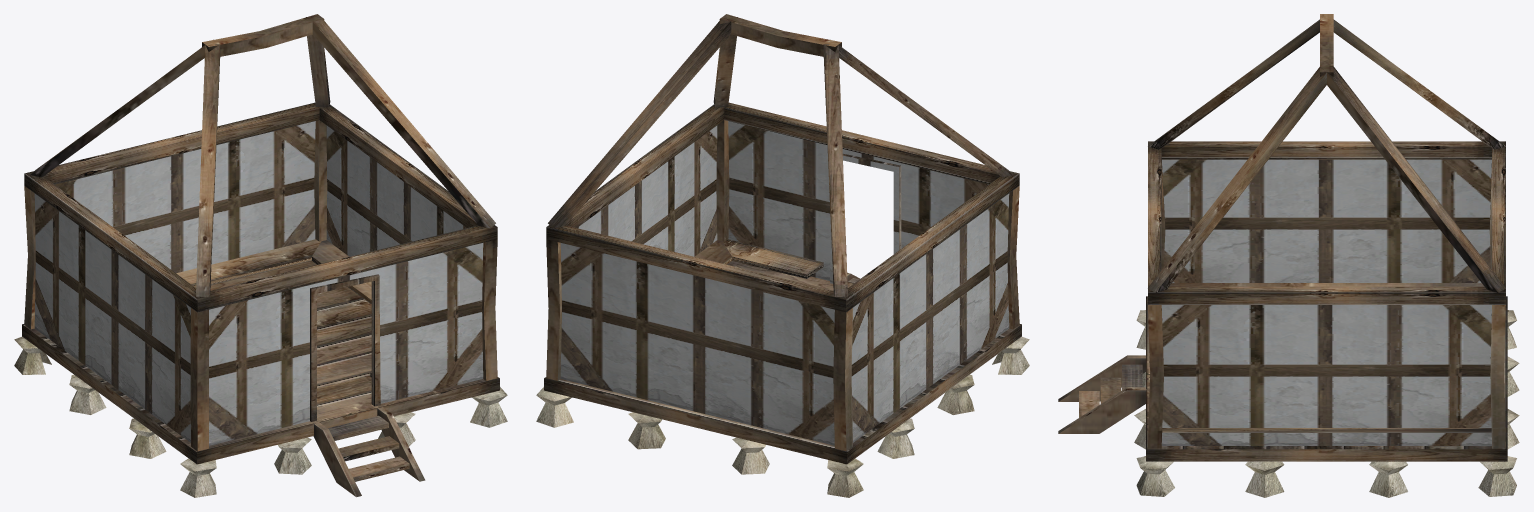
3 renders of one model, left to right at view 1: azimuth 30°, elevation 25°; view 2: azimuth 150°, elevation 25°; view 3: azimuth 270°, elevation 25°, orthographic. The views are drawn at different scales.
Visible parts, largest first — view 1: granary_open.001; view 2: granary_open.001; view 3: granary_open.001.
Part boxes in pixels (<box>): granary_open.001: <box>14,14,507,497</box>; granary_open.001: <box>536,14,1029,497</box>; granary_open.001: <box>1058,14,1519,497</box>.
Size of the model in its own units: 560 by 600 by 670.
3 materials, 3 textured.
